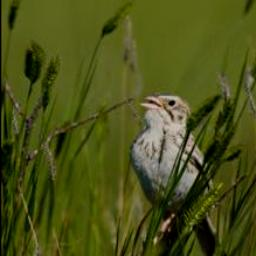Sparrow: (127, 91, 226, 256)
